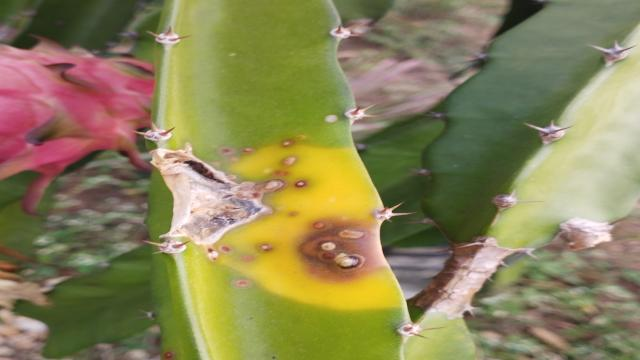stemcanker: (225, 134, 355, 175), (281, 201, 334, 229), (242, 230, 278, 267), (223, 270, 254, 298), (311, 111, 346, 130), (293, 171, 313, 199), (220, 234, 237, 260)
